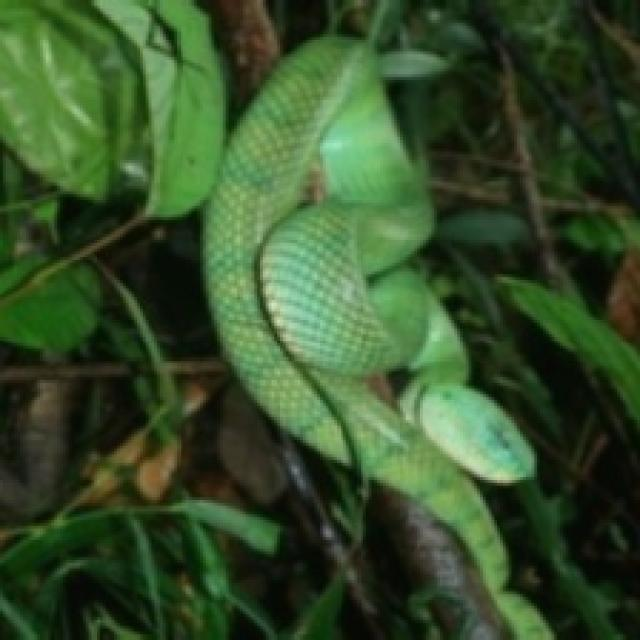north ph temple pitviper: (203, 37, 551, 637)
